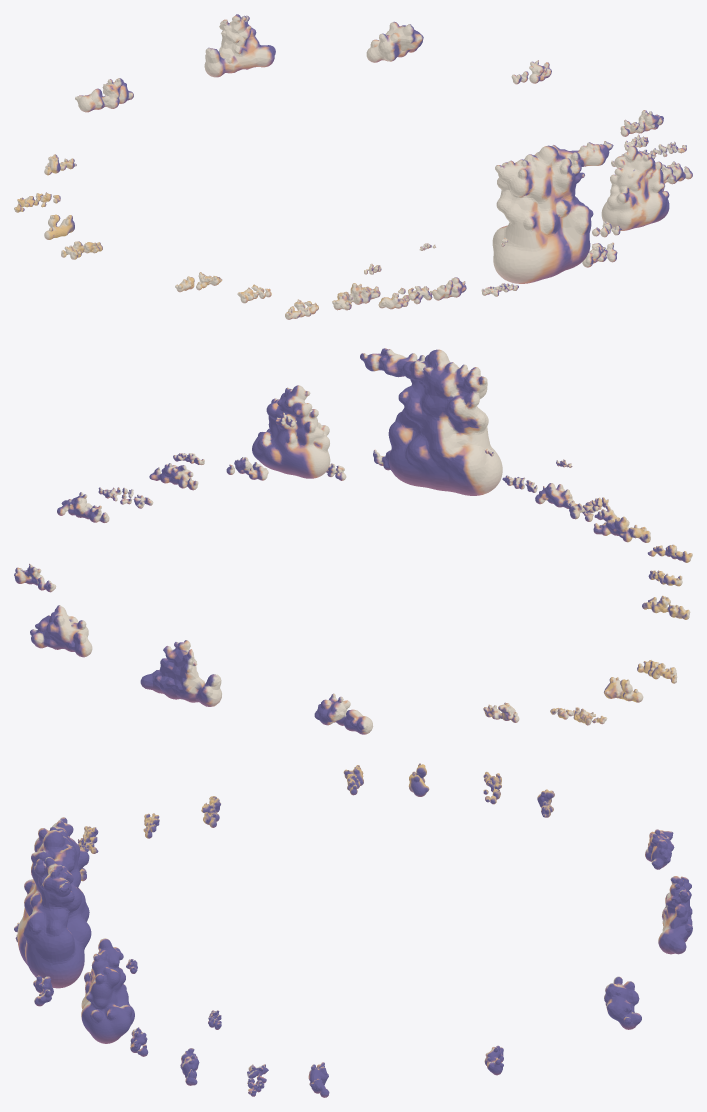
The model's file is clouds.glb.
3 views of the same model, one above another, from view 1: azimuth 30°, elevation 25°; view 2: azimuth 150°, elevation 25°; view 3: azimuth 270°, elevation 25° (orthographic). The views are drawn at different scales.
Visible parts, largest first — view 1: piece_clouds; view 2: piece_clouds; view 3: piece_clouds.
Part boxes in pixels (<box>): piece_clouds: <box>14,14,692,319</box>; piece_clouds: <box>14,348,692,734</box>; piece_clouds: <box>14,763,692,1097</box>.
Bounding box in the file's own units: 2856 × 589 × 2508.
